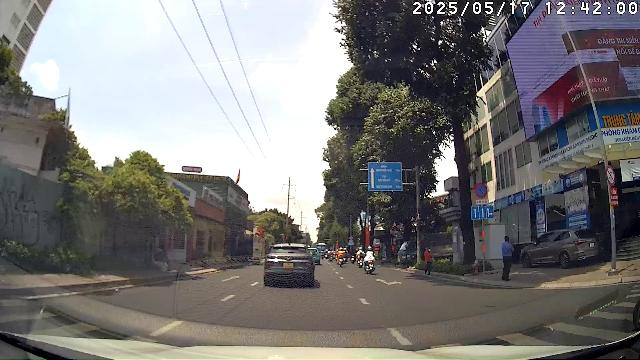131a-cam-do-xe: (474, 182, 488, 198)
